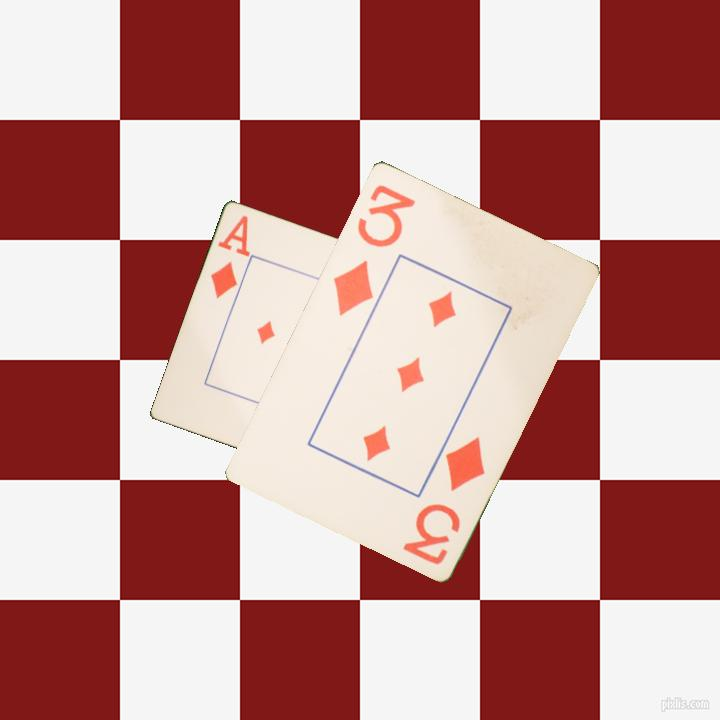3d: (329, 180, 418, 319), (399, 432, 488, 567)
Ad: (207, 212, 252, 302)
